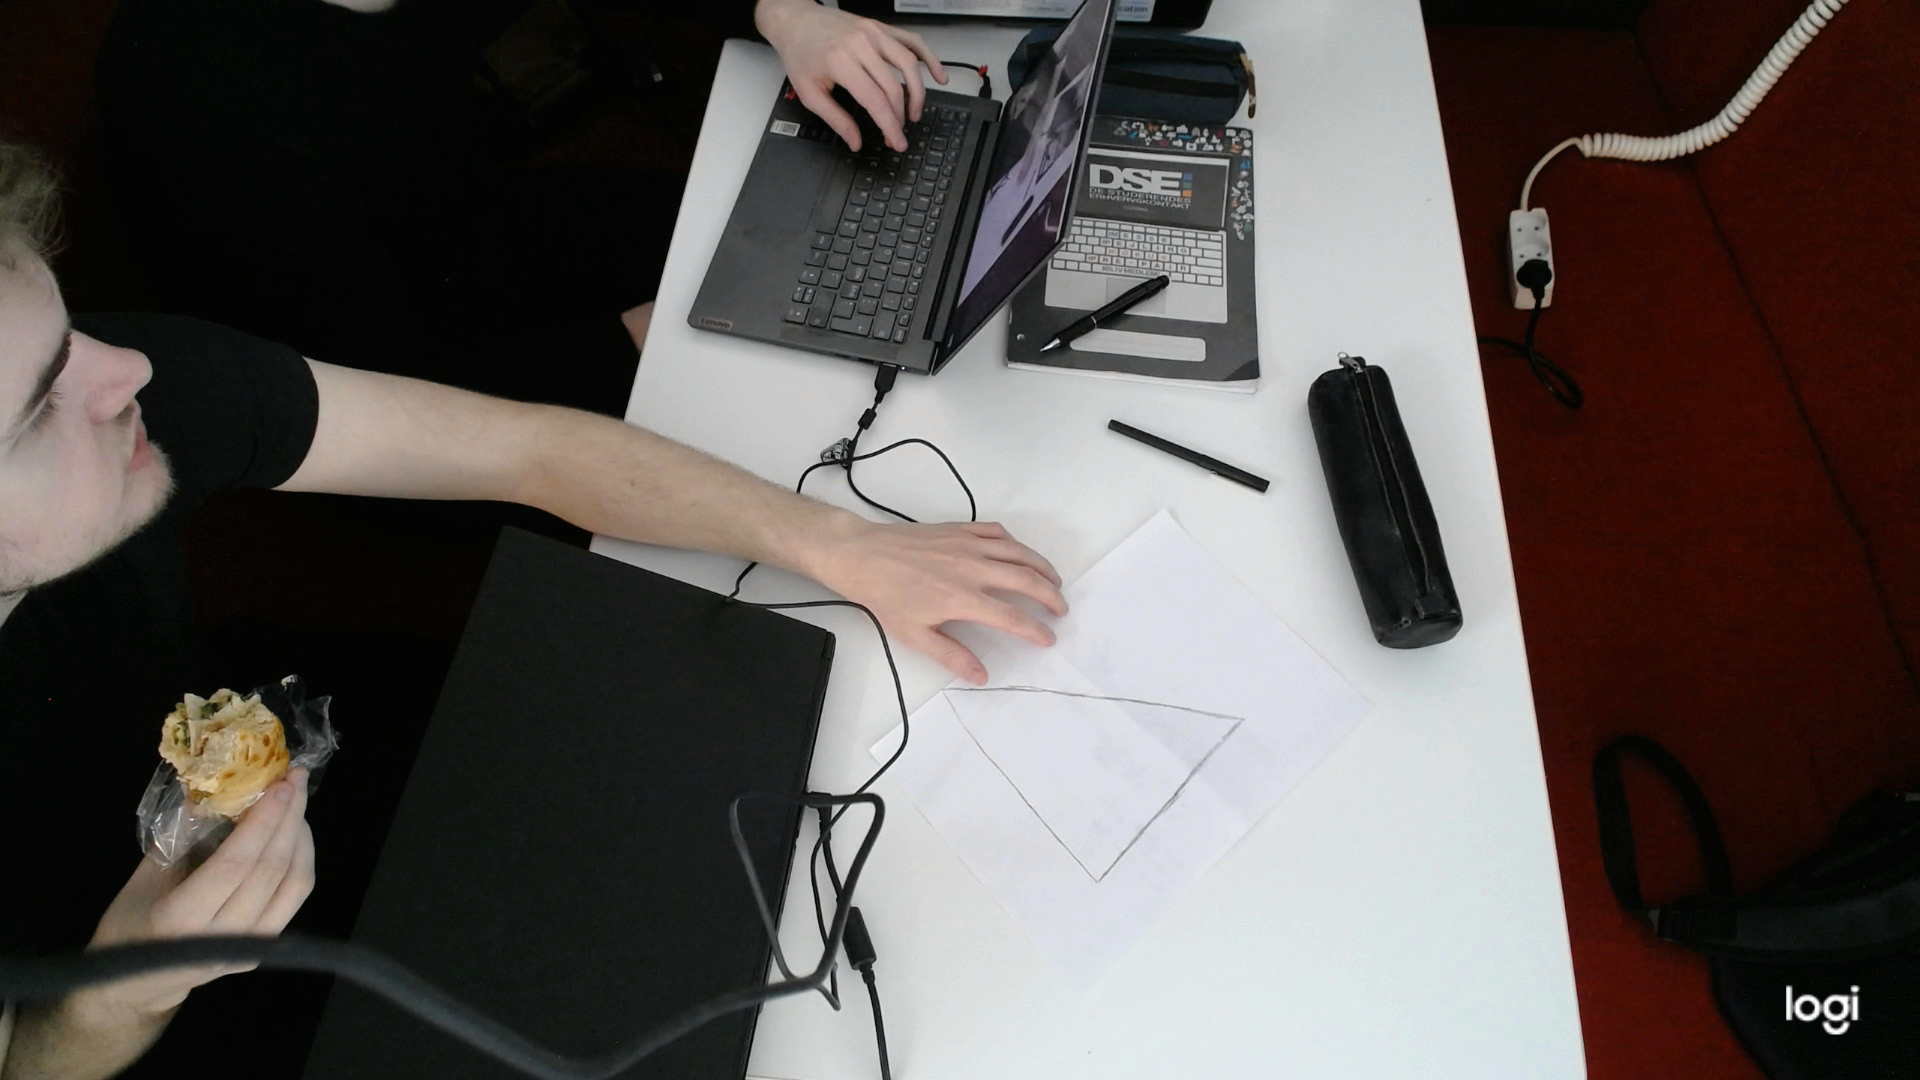Triangle: (934, 679, 1247, 889)
